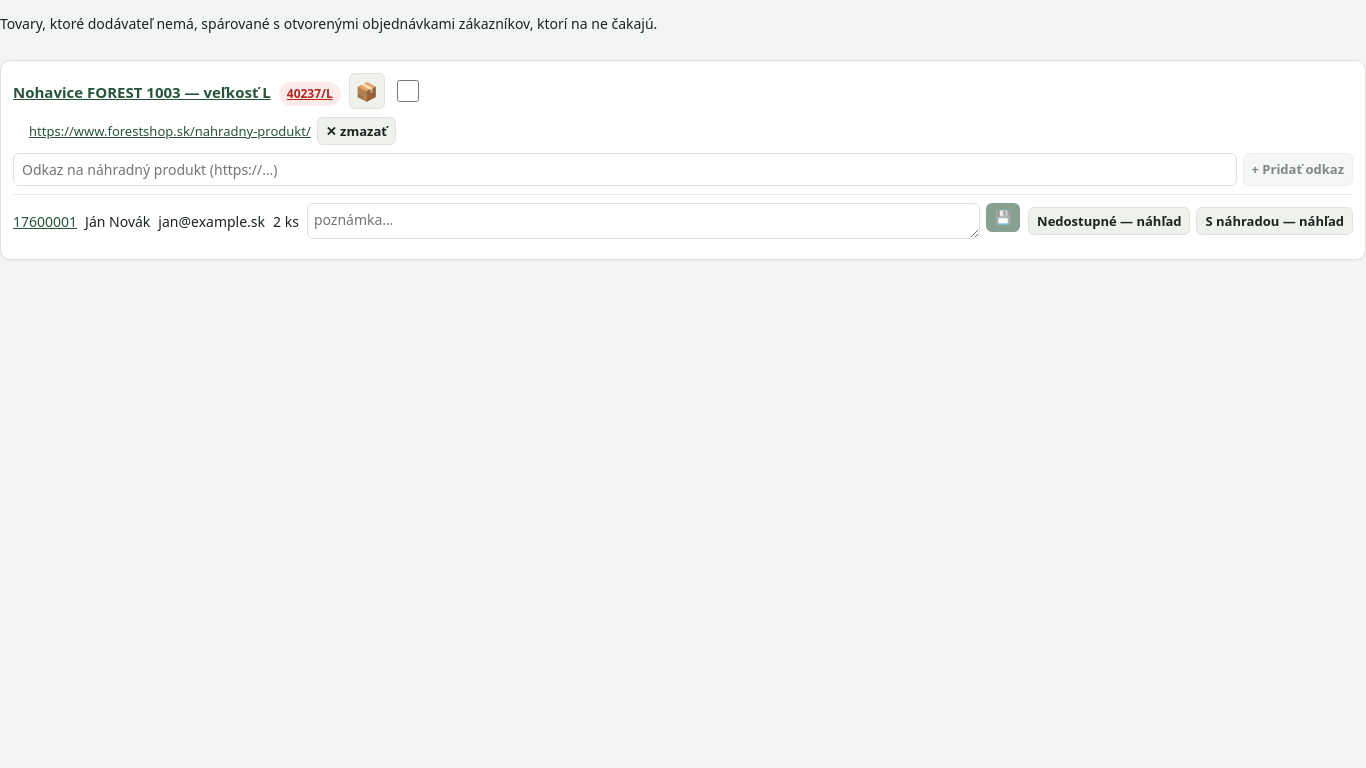
Scenario: zrušenie náhľadu NEPOŠLE nič
Check: the element with test id "nedostupne-group-40237/L" is shown, box [0,60,1365,260]
Click the button with test id "nedostupne-send-17600001-40237/L": {"x": 1109, "y": 221} [1028,207,1190,236]
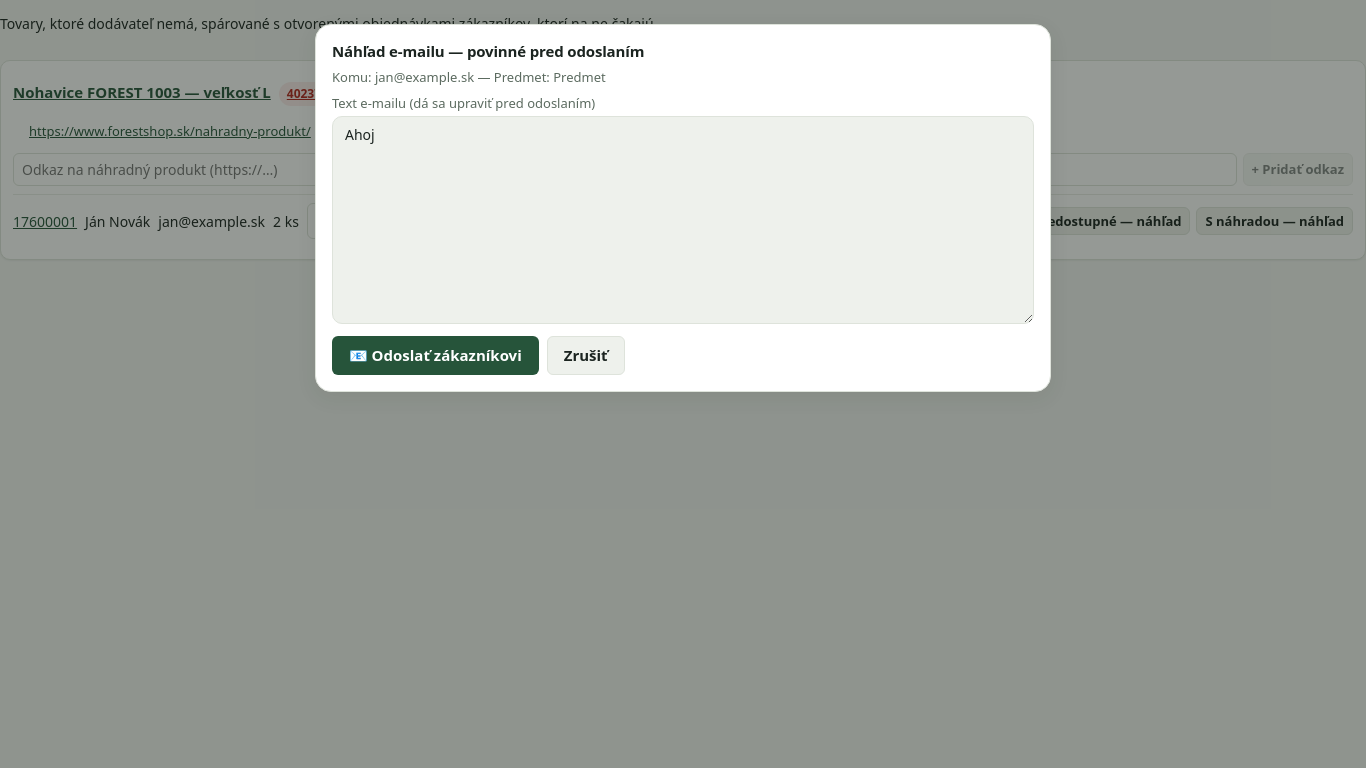
Check: the dialog with test id "nedostupne-preview" is shown, box [315,24,1051,392]
Click the button "Zrušiť": {"x": 586, "y": 356} [547,336,625,375]
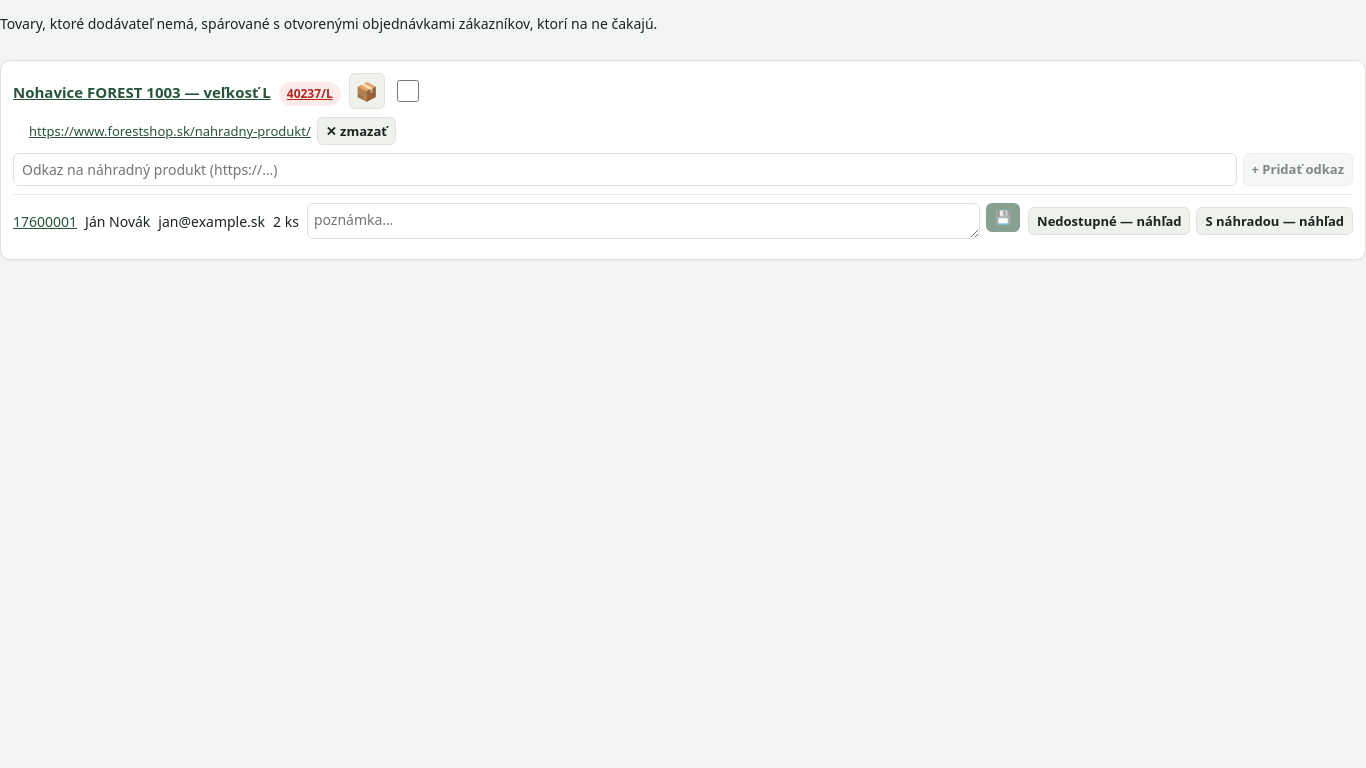
Check: the dialog with test id "nedostupne-preview" is gone
